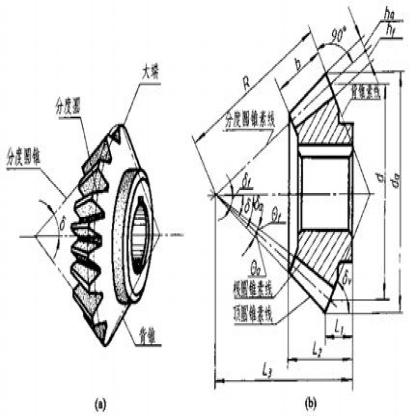FOD: (66, 120, 156, 351)
